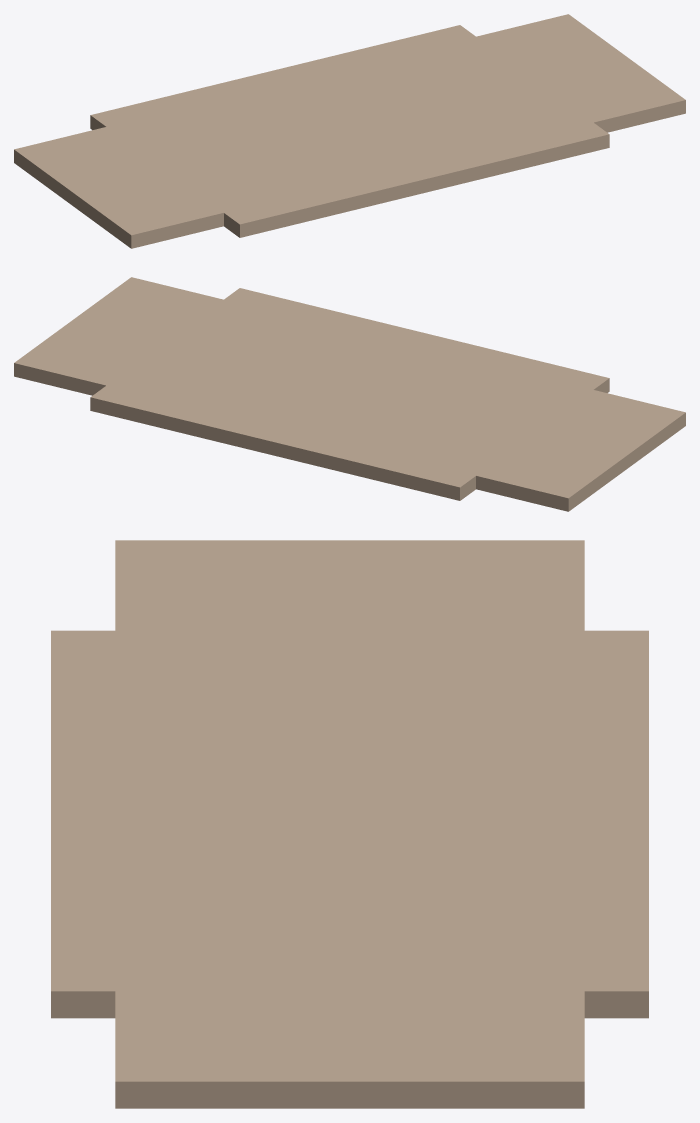
File: MOD_DECK_TIMBER_COASTAL_001_LOD_MAP.glb
3 views of the same model, one above another, from view 1: azimuth 30°, elevation 25°; view 2: azimuth 150°, elevation 25°; view 3: azimuth 270°, elevation 25° (orthographic). The views are drawn at different scales.
Parts seen in each view (by area): view 1: MOD_DECK_TIMBER_COASTAL_001_WRAP_DECK_MAP_PLATFORM, MOD_DECK_TIMBER_COASTAL_001_MEDIUM_DECK_MAP_PLATFORM, MOD_DECK_TIMBER_COASTAL_001_SMALL_DECK_MAP_PLATFORM; view 2: MOD_DECK_TIMBER_COASTAL_001_WRAP_DECK_MAP_PLATFORM, MOD_DECK_TIMBER_COASTAL_001_MEDIUM_DECK_MAP_PLATFORM, MOD_DECK_TIMBER_COASTAL_001_SMALL_DECK_MAP_PLATFORM; view 3: MOD_DECK_TIMBER_COASTAL_001_WRAP_DECK_MAP_PLATFORM, MOD_DECK_TIMBER_COASTAL_001_MEDIUM_DECK_MAP_PLATFORM, MOD_DECK_TIMBER_COASTAL_001_SMALL_DECK_MAP_PLATFORM.
Part boxes in pixels (bbox=[...]): MOD_DECK_TIMBER_COASTAL_001_WRAP_DECK_MAP_PLATFORM: bbox=[14, 14, 685, 248]; MOD_DECK_TIMBER_COASTAL_001_MEDIUM_DECK_MAP_PLATFORM: bbox=[90, 25, 609, 237]; MOD_DECK_TIMBER_COASTAL_001_SMALL_DECK_MAP_PLATFORM: bbox=[186, 59, 500, 190]; MOD_DECK_TIMBER_COASTAL_001_WRAP_DECK_MAP_PLATFORM: bbox=[14, 277, 685, 511]; MOD_DECK_TIMBER_COASTAL_001_MEDIUM_DECK_MAP_PLATFORM: bbox=[90, 288, 609, 500]; MOD_DECK_TIMBER_COASTAL_001_SMALL_DECK_MAP_PLATFORM: bbox=[203, 322, 507, 453]; MOD_DECK_TIMBER_COASTAL_001_WRAP_DECK_MAP_PLATFORM: bbox=[115, 540, 584, 1108]; MOD_DECK_TIMBER_COASTAL_001_MEDIUM_DECK_MAP_PLATFORM: bbox=[51, 630, 648, 1018]; MOD_DECK_TIMBER_COASTAL_001_SMALL_DECK_MAP_PLATFORM: bbox=[136, 702, 563, 919].
Bounding box in the file's own units: 6 × 0.14 × 2.8.
